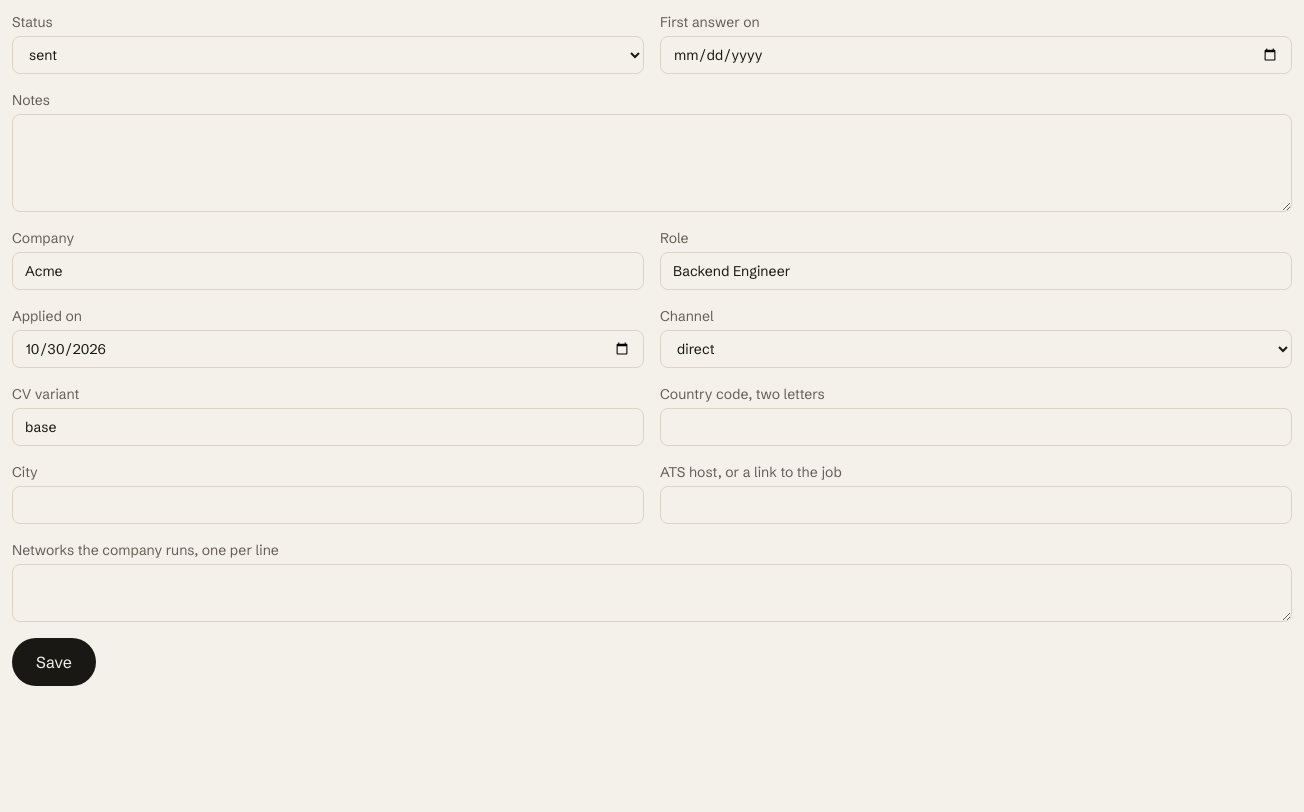
Test: EditApplicationForm › keeps the status and notes it sent when the API refuses the save
The width and height of the screenshot is (1304, 812).
Click the button "Save": (54, 662) [12,638,96,686]
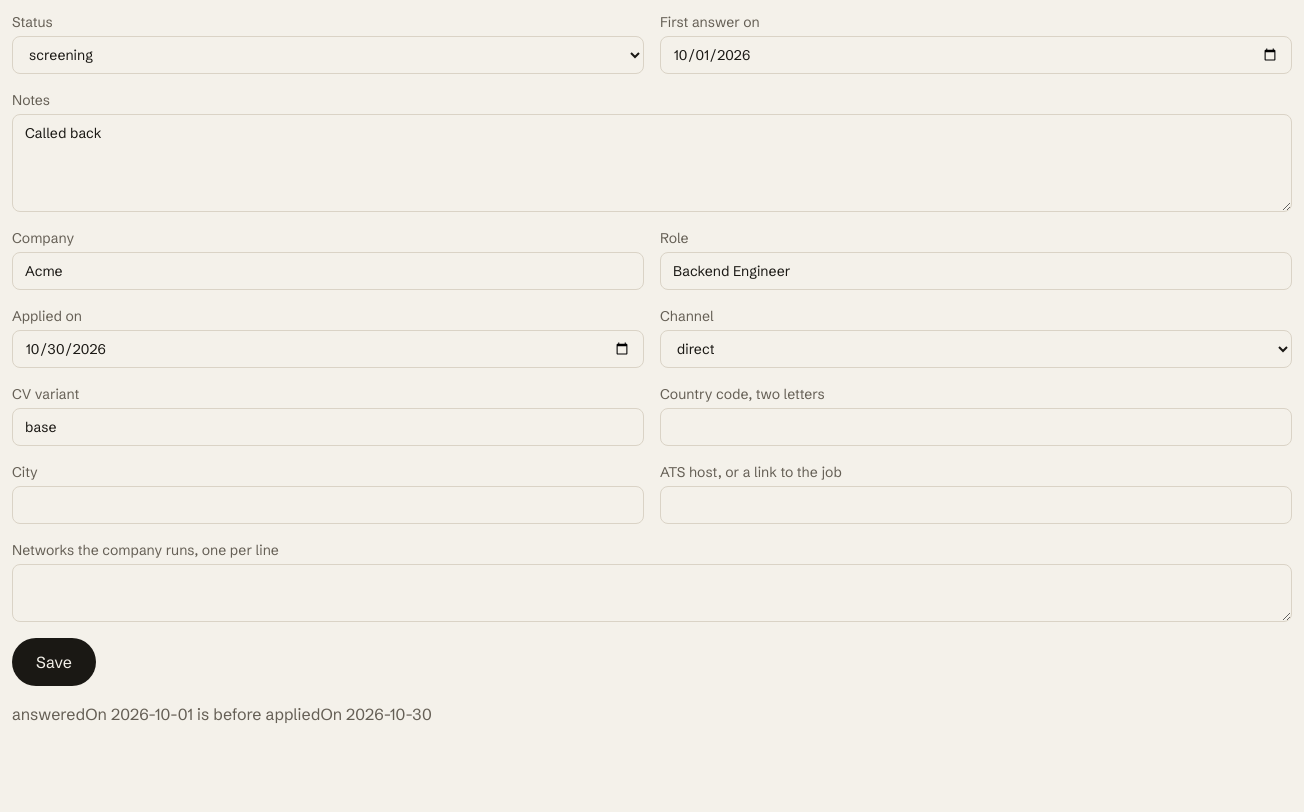
Result: the message reads "answeredOn 2026-10-01 is before appliedOn 2026-10-30" at [12,704,432,724]
Result: the dropdown labelled "Status" shows "screening" at [12,36,644,74]
Result: the text box labelled "Notes" holds "Called back" at [12,114,1292,212]
